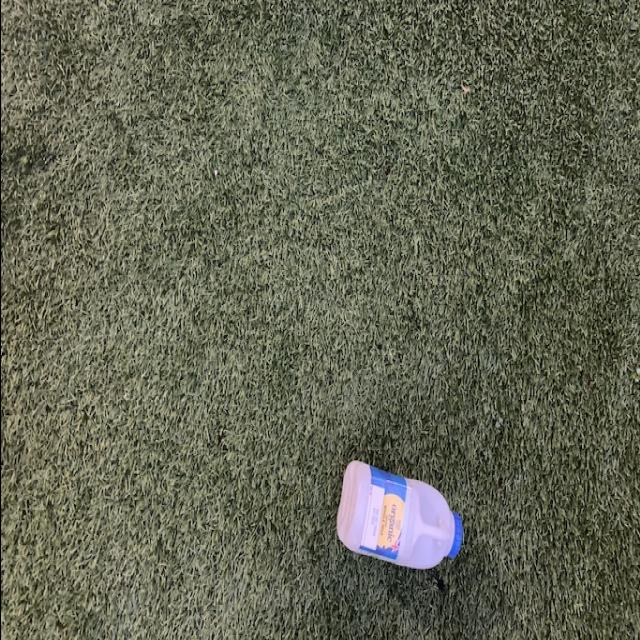HDPEM: (328, 452, 464, 572)
